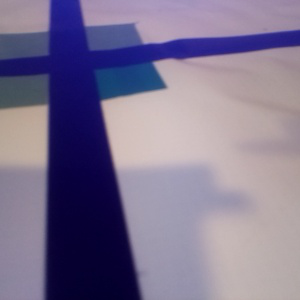bottom_left: (1, 60, 93, 108)
bottom_right: (49, 52, 166, 101)
top_left: (1, 32, 84, 73)
top_right: (48, 23, 142, 63)
